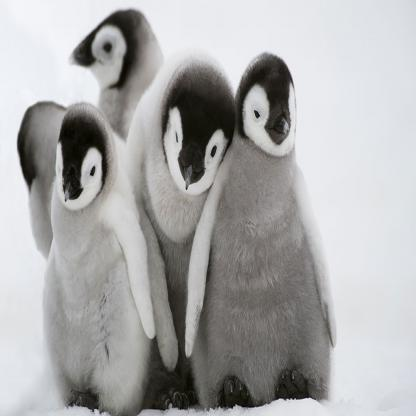Penguin: (183, 48, 346, 405), (115, 34, 233, 380), (41, 97, 158, 415), (55, 2, 196, 264)
